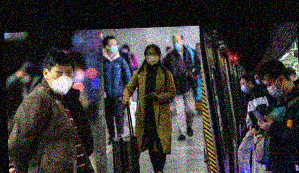with_mask: (47, 64, 74, 95), (261, 79, 282, 97), (143, 47, 158, 64), (171, 36, 181, 49), (238, 79, 247, 92), (109, 40, 117, 52), (252, 75, 261, 85)
